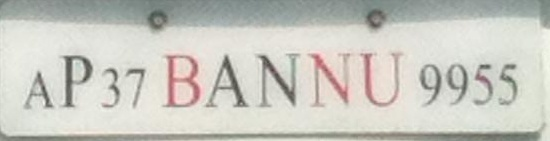character: (357, 48, 404, 107), (307, 49, 352, 110), (201, 52, 248, 110), (253, 50, 299, 107), (160, 50, 201, 109), (58, 51, 94, 109), (20, 68, 55, 111), (418, 61, 443, 110), (471, 60, 494, 108), (497, 63, 521, 108), (444, 63, 469, 106), (98, 65, 121, 109), (124, 64, 147, 108)
